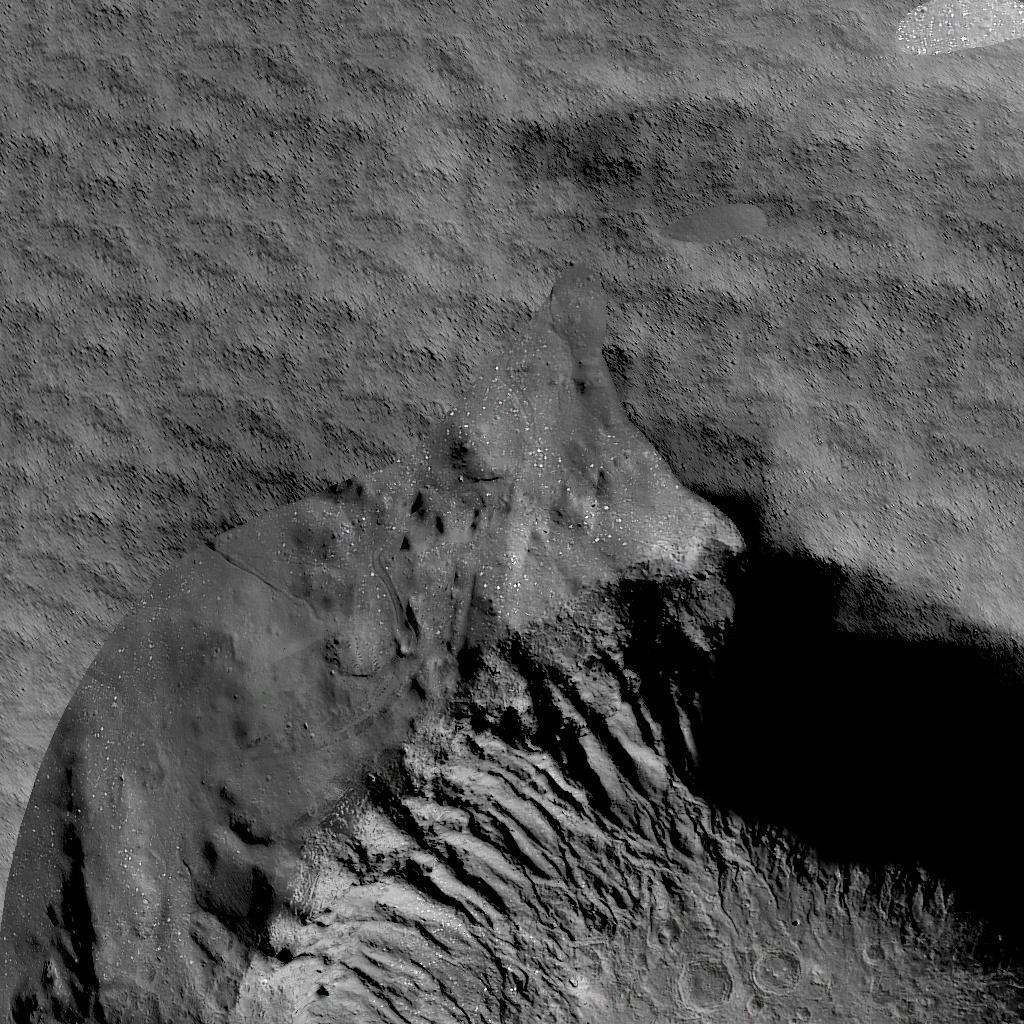Crater: (0, 460, 1024, 1024)
Plan surface: (0, 0, 1024, 448)
